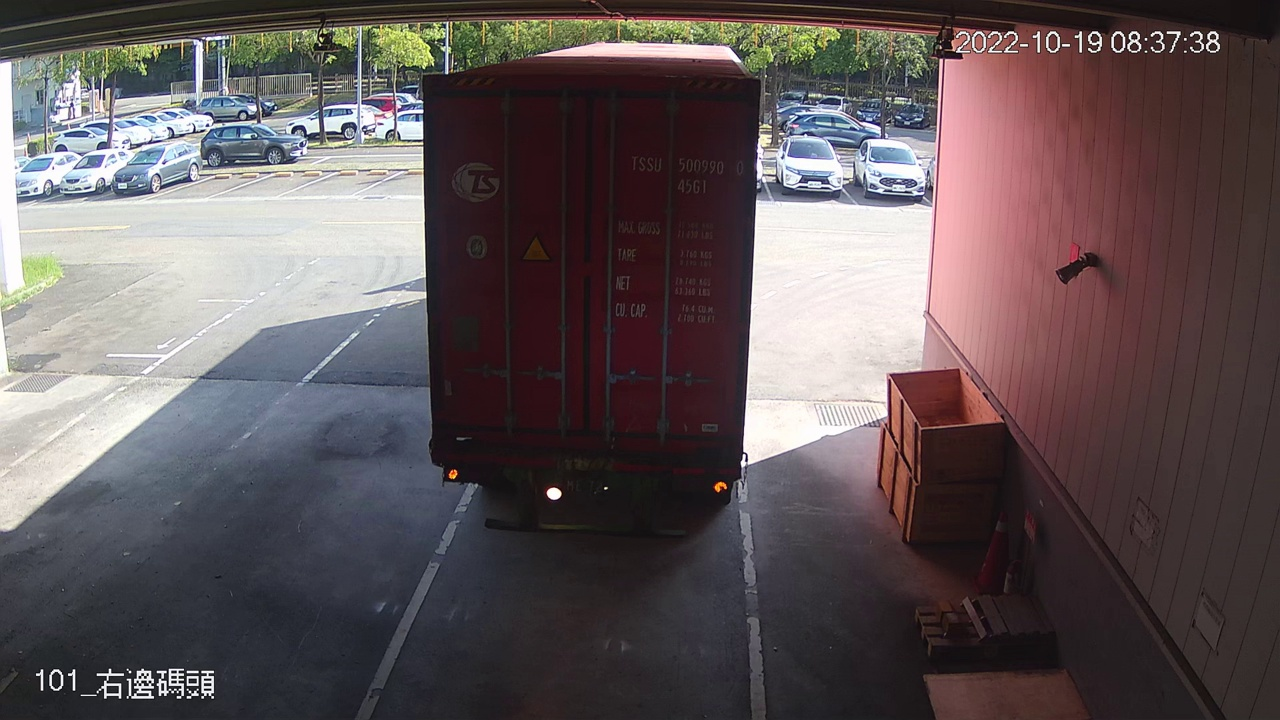container: (624, 149, 749, 199)
